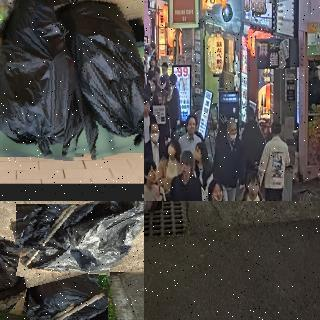Garbage: (0, 0, 88, 159), (62, 0, 144, 156), (13, 201, 144, 279), (28, 253, 109, 320), (0, 225, 45, 314)
